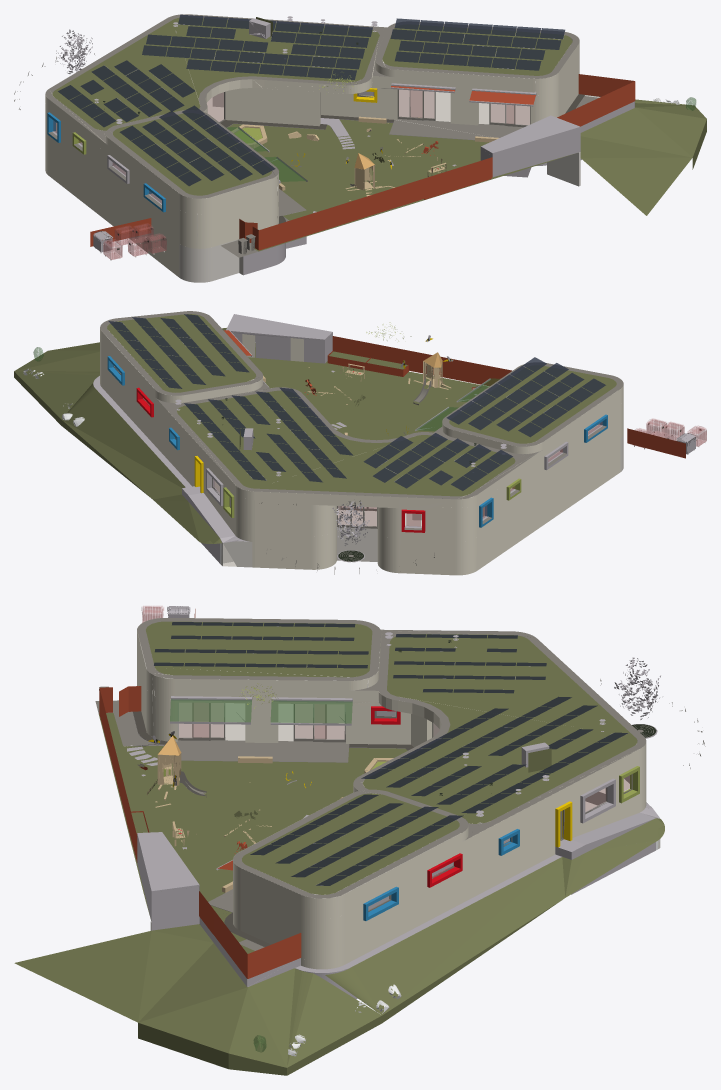
File: hustopece.glb
3 views of the same model, one above another, from view 1: azimuth 30°, elevation 25°; view 2: azimuth 150°, elevation 25°; view 3: azimuth 270°, elevation 25° (orthographic). The views are drawn at different scales.
Parts seen in each view (by area): view 1: hustopece_architecture; view 2: hustopece_architecture; view 3: hustopece_architecture.
Part boxes in pixels (x1,y1,x2,y2): hustopece_architecture: (14, 14, 706, 282); hustopece_architecture: (14, 311, 706, 575); hustopece_architecture: (14, 606, 705, 1075).
Size of the model in its own units: 53.34 by 10.47 by 39.83.
